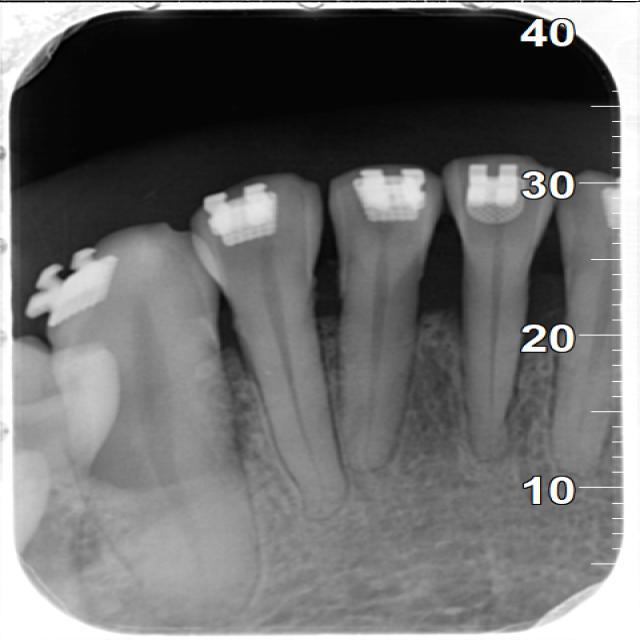individual-tooth-8tto: (183, 178, 337, 507), (439, 154, 561, 449), (336, 161, 448, 477)
